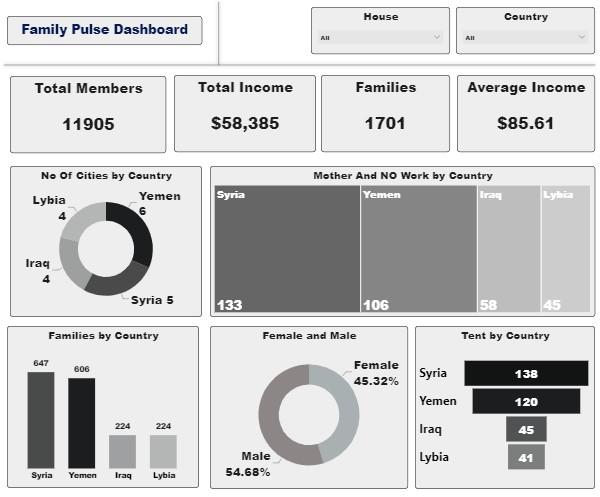

Layout of this report page (visuals, bound fields, positions):
{"tool":"powerbi","page":{"name":"Page 1","canvas":[1258,1050],"ordinal":0},"visuals":[{"type":"columnChart","fields":{"Y":["_Measure.Families"],"Category":["Needs.Country"]},"box":[14.7,688.8,403.2,340.2],"z":0},{"type":"textbox","box":[14.4,38.4,409.6,60.8],"z":1000},{"type":"slicer","title":"Country","fields":{"Values":["Needs.Country"]},"box":[957.6,18.9,291.9,98.7],"z":2000},{"type":"shape","box":[0,0,1257.9,281.4],"z":3000},{"type":"shape","box":[0,0,918.3,148.3],"z":4000},{"type":"slicer","title":"House","fields":{"Values":["Needs.House"]},"box":[653.1,18.9,291.9,98.7],"z":5000},{"type":"card","title":"Total Members","fields":{"Values":["_Measure.Total Nembers"]},"box":[20,163.3,328.3,161.7],"z":6000},{"type":"card","title":"Average Income","fields":{"Values":["_Measure.Average Income"]},"box":[959.7,161.7,289.8,161.7],"z":7000},{"type":"card","title":"Families","fields":{"Values":["_Measure.Families"]},"box":[674.1,161.7,270.9,161.7],"z":8000},{"type":"card","title":"Total Income","fields":{"Values":["_Measure.Total Income"]},"box":[365,161.7,298.3,161.7],"z":9000},{"type":"donutChart","fields":{"Y":["_Measure.No Of Cities"],"Category":["Needs.Country"]},"box":[21,352.8,403.2,317.1],"z":10000},{"type":"donutChart","fields":{"Y":["_Measure.Female","_Measure.Male"]},"box":[441,688.8,415.8,342.3],"z":11000},{"type":"funnel","fields":{"Y":["_Measure.Tent"],"Category":["Needs.Country"]},"box":[871.5,688.8,378,342.3],"z":12000},{"type":"treemap","fields":{"Values":["_Measure.Mother And NO Work"],"Group":["Needs.Country","Needs.City"]},"box":[441,352.8,808.5,317.1],"z":13000}]}

Visuals, with their boxes in screenshot pixels (x1, y1, x2, y2), scaled from the page's 1258x1050 canvas onto the 600x497 screenshot:
columnChart - _Measure.Families x Needs.Country: <box>7,326,199,487</box>
textbox: <box>7,18,202,47</box>
"Country" slicer: <box>457,9,596,56</box>
shape: <box>0,0,599,133</box>
shape: <box>0,0,438,70</box>
"House" slicer: <box>311,9,451,56</box>
"Total Members" card: <box>10,77,166,154</box>
"Average Income" card: <box>458,77,596,153</box>
"Families" card: <box>322,77,451,153</box>
"Total Income" card: <box>174,77,316,153</box>
donutChart - _Measure.No Of Cities x Needs.Country: <box>10,167,202,317</box>
donutChart - _Measure.Female x _Measure.Male: <box>210,326,409,488</box>
funnel - _Measure.Tent x Needs.Country: <box>416,326,596,488</box>
treemap - _Measure.Mother And NO Work x Needs.Country: <box>210,167,596,317</box>
